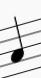A: (7, 12, 26, 76)
